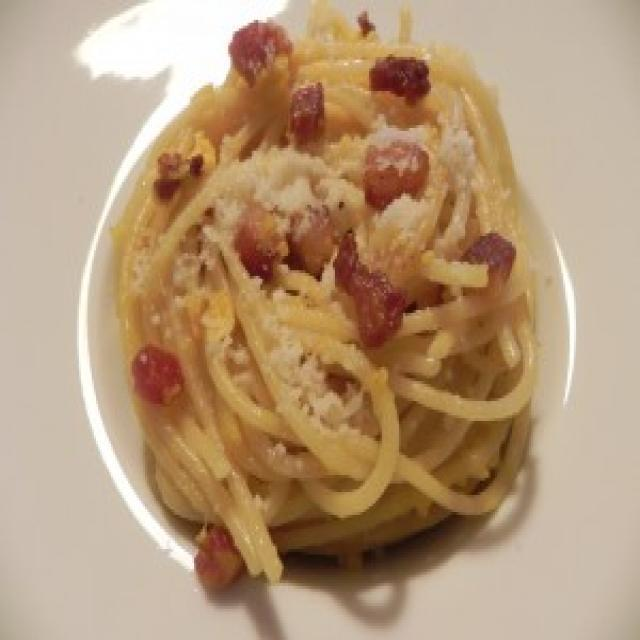Oil pasta: (126, 46, 580, 555)
